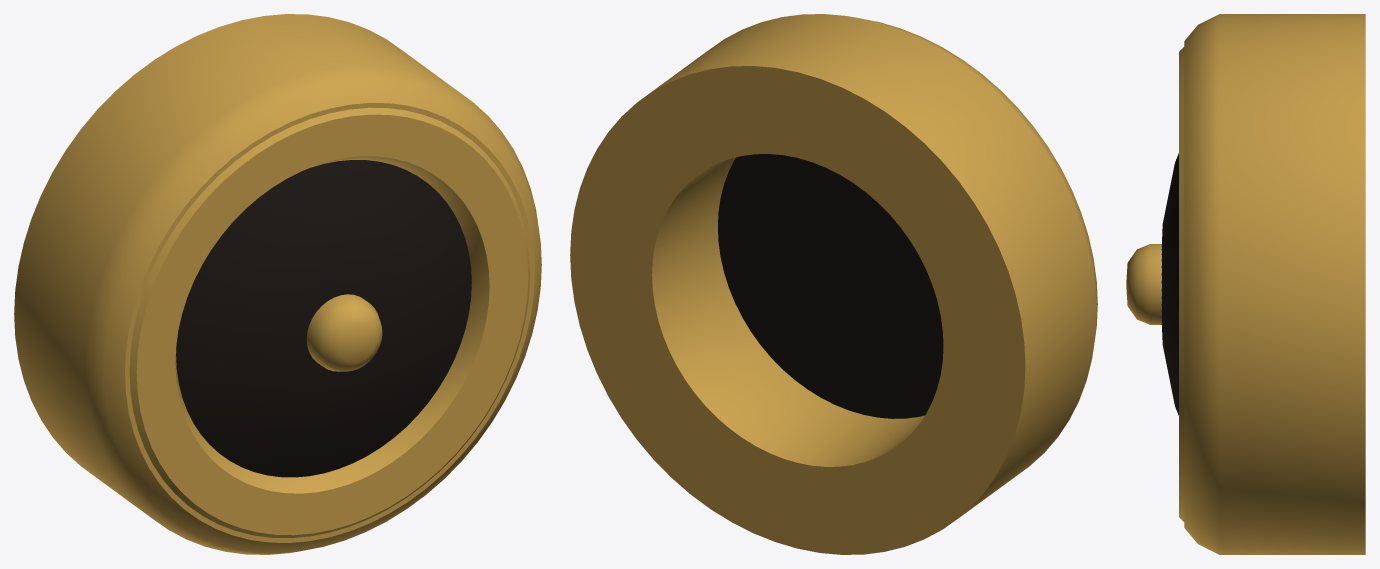
The model's file is rueda-hub-cap.glb.
3 views of the same model, side by side, from view 1: azimuth 30°, elevation 25°; view 2: azimuth 150°, elevation 25°; view 3: azimuth 270°, elevation 25° (orthographic). The views are drawn at different scales.
Visible parts, largest first — view 1: HubCap; view 2: HubCap; view 3: HubCap.
Part boxes in pixels (x1=…): HubCap: x1=14, y1=14, x2=541, y2=554; HubCap: x1=570, y1=14, x2=1097, y2=554; HubCap: x1=1126, y1=14, x2=1365, y2=554.
Bounding box in the file's own units: 0.4 × 0.4 × 0.177.
